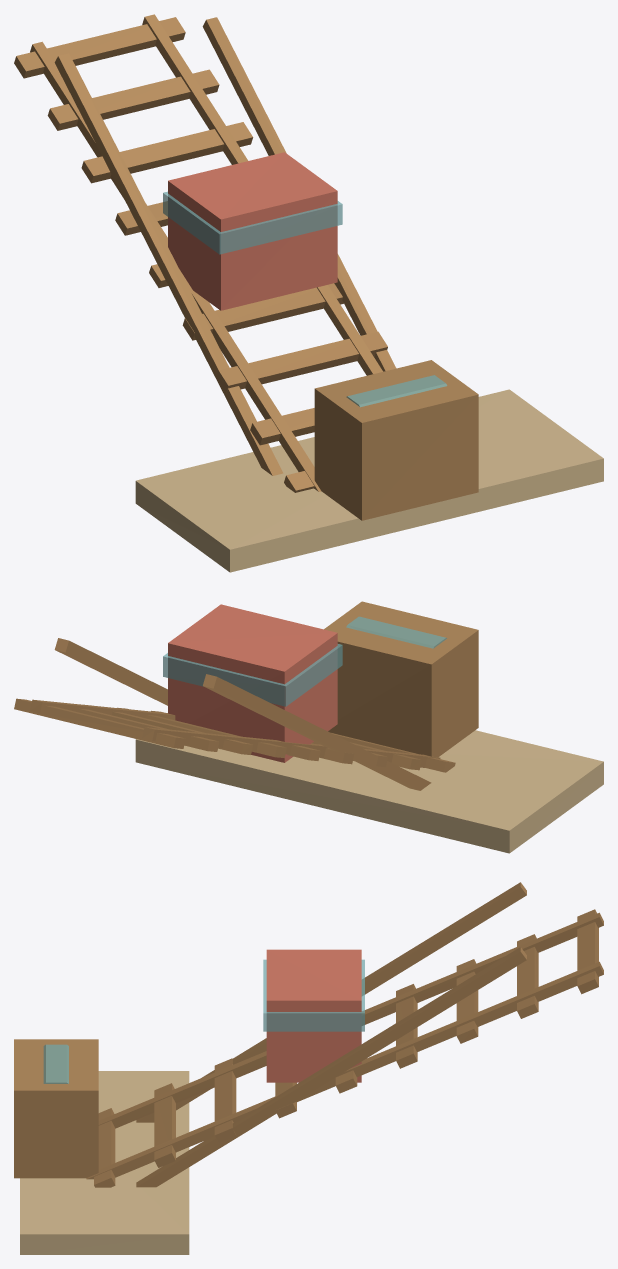
File: mountain-funicular.source.glb
The picture shows the model from 3 angles, top to bottom: view 1: azimuth 30°, elevation 25°; view 2: azimuth 150°, elevation 25°; view 3: azimuth 270°, elevation 25°; orthographic projection. The views are drawn at different scales.
Parts seen in each view (by area): view 1: mountain-funicular-lower-stone-loading-platform-mesh, mountain-funicular-cable-drum-housing-mesh, mountain-funicular-small-incline-cabin-mesh, mountain-funicular-incline-support-left-mesh, mountain-funicular-inclined-rail-left-mesh, mountain-funicular-incline-support-right-mesh, mountain-funicular-cabin-window-band-mesh, mountain-funicular-inclined-rail-right-mesh, mountain-funicular-support-sleeper-3-mesh, mountain-funicular-support-sleeper-7-mesh, mountain-funicular-support-sleeper-9-mesh, mountain-funicular-support-sleeper-8-mesh (+4 smaller); view 2: mountain-funicular-lower-stone-loading-platform-mesh, mountain-funicular-cable-drum-housing-mesh, mountain-funicular-small-incline-cabin-mesh, mountain-funicular-cabin-window-band-mesh, mountain-funicular-incline-support-left-mesh, mountain-funicular-support-sleeper-9-mesh, mountain-funicular-incline-support-right-mesh, mountain-funicular-inclined-rail-left-mesh, mountain-funicular-visible-cable-drum-mesh, mountain-funicular-inclined-rail-right-mesh, mountain-funicular-support-sleeper-6-mesh, mountain-funicular-support-sleeper-7-mesh (+4 smaller); view 3: mountain-funicular-lower-stone-loading-platform-mesh, mountain-funicular-cable-drum-housing-mesh, mountain-funicular-small-incline-cabin-mesh, mountain-funicular-incline-support-right-mesh, mountain-funicular-inclined-rail-right-mesh, mountain-funicular-inclined-rail-left-mesh, mountain-funicular-incline-support-left-mesh, mountain-funicular-cabin-window-band-mesh, mountain-funicular-support-sleeper-2-mesh, mountain-funicular-support-sleeper-3-mesh, mountain-funicular-support-sleeper-9-mesh, mountain-funicular-support-sleeper-8-mesh (+4 smaller).
Part boxes in pixels (x1,y1,x2,y2): mountain-funicular-lower-stone-loading-platform-mesh: (135, 389, 603, 572); mountain-funicular-cable-drum-housing-mesh: (314, 360, 478, 520); mountain-funicular-small-incline-cabin-mesh: (168, 152, 337, 310); mountain-funicular-incline-support-left-mesh: (54, 53, 283, 475); mountain-funicular-inclined-rail-left-mesh: (30, 41, 320, 491); mountain-funicular-incline-support-right-mesh: (202, 17, 396, 371); mountain-funicular-cabin-window-band-mesh: (163, 191, 342, 254); mountain-funicular-inclined-rail-right-mesh: (142, 14, 382, 375); mountain-funicular-support-sleeper-3-mesh: (216, 331, 387, 392); mountain-funicular-support-sleeper-7-mesh: (81, 122, 253, 183); mountain-funicular-support-sleeper-9-mesh: (14, 17, 185, 78); mountain-funicular-support-sleeper-8-mesh: (47, 69, 219, 130); mountain-funicular-lower-stone-loading-platform-mesh: (135, 730, 603, 853); mountain-funicular-cable-drum-housing-mesh: (324, 601, 478, 757); mountain-funicular-small-incline-cabin-mesh: (168, 604, 337, 762); mountain-funicular-cabin-window-band-mesh: (163, 644, 342, 706); mountain-funicular-incline-support-left-mesh: (203, 674, 431, 790); mountain-funicular-support-sleeper-9-mesh: (14, 698, 185, 748); mountain-funicular-incline-support-right-mesh: (54, 638, 167, 705); mountain-funicular-inclined-rail-left-mesh: (142, 727, 440, 767); mountain-funicular-visible-cable-drum-mesh: (346, 616, 446, 648); mountain-funicular-inclined-rail-right-mesh: (30, 699, 175, 720); mountain-funicular-support-sleeper-6-mesh: (117, 707, 286, 757); mountain-funicular-support-sleeper-7-mesh: (84, 704, 252, 754); mountain-funicular-lower-stone-loading-platform-mesh: (20, 1071, 189, 1254); mountain-funicular-cable-drum-housing-mesh: (14, 1039, 98, 1178); mountain-funicular-small-incline-cabin-mesh: (266, 949, 361, 1082); mountain-funicular-incline-support-right-mesh: (136, 947, 526, 1187); mountain-funicular-inclined-rail-right-mesh: (86, 961, 603, 1179); mountain-funicular-inclined-rail-left-mesh: (98, 912, 603, 1128); mountain-funicular-incline-support-left-mesh: (136, 882, 526, 1122); mountain-funicular-cabin-window-band-mesh: (263, 959, 364, 1031); mountain-funicular-support-sleeper-2-mesh: (154, 1083, 175, 1167); mountain-funicular-support-sleeper-3-mesh: (214, 1058, 236, 1142); mountain-funicular-support-sleeper-9-mesh: (577, 909, 598, 994); mountain-funicular-support-sleeper-8-mesh: (517, 934, 538, 1018).
Bounding box in the file's own units: 4.8 × 3.51 × 7.32.
